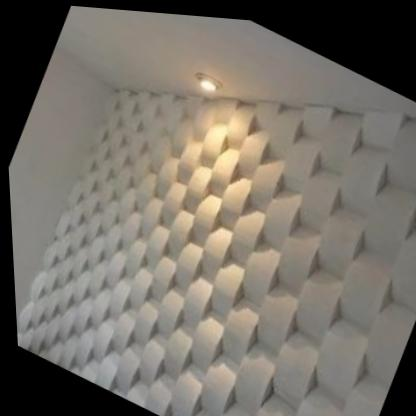Futech tiles: (35, 105, 416, 416)
